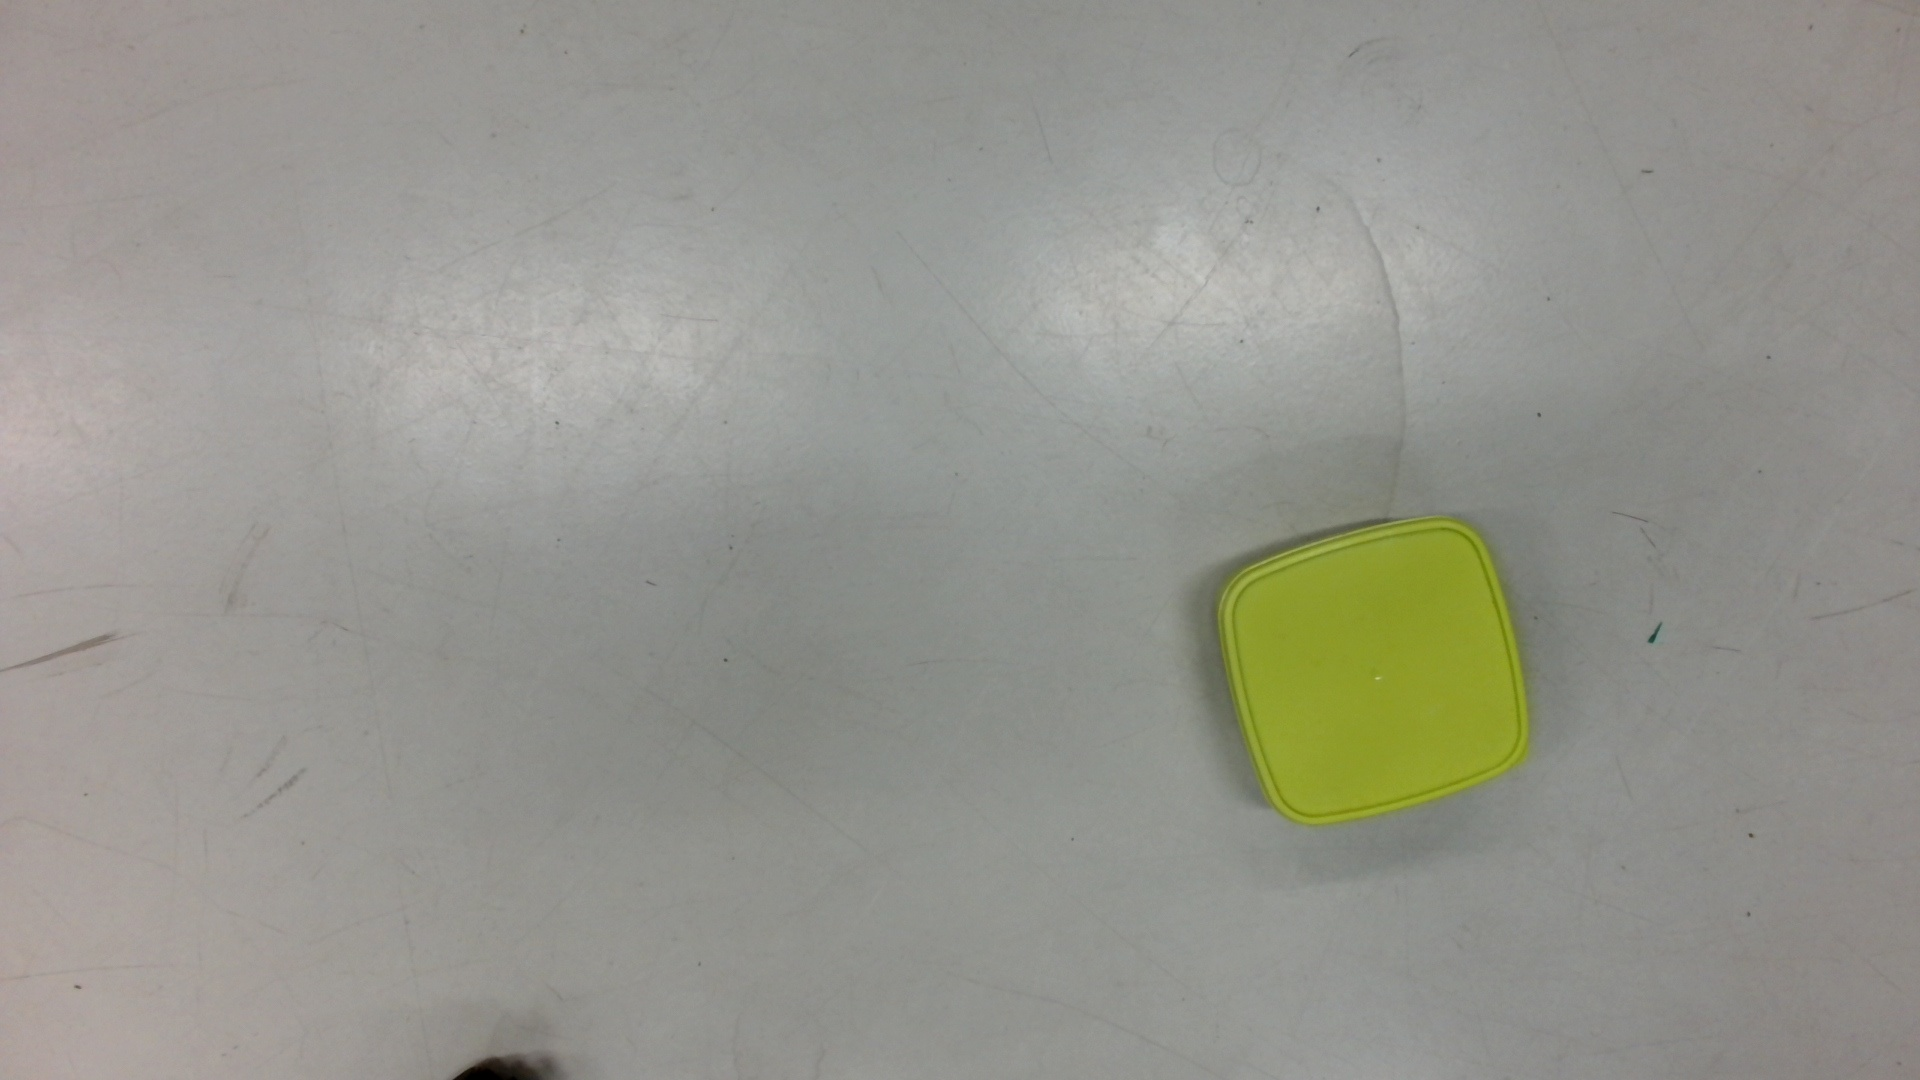Box: (1208, 511, 1537, 834)
